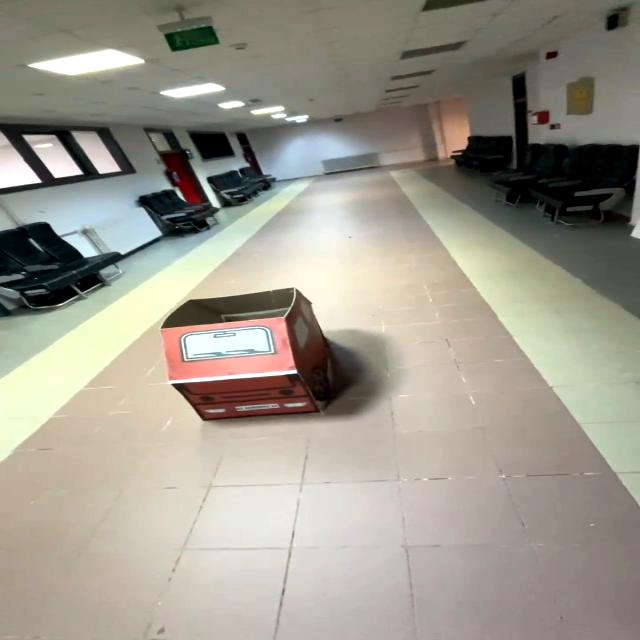red_car: (148, 279, 377, 440)
